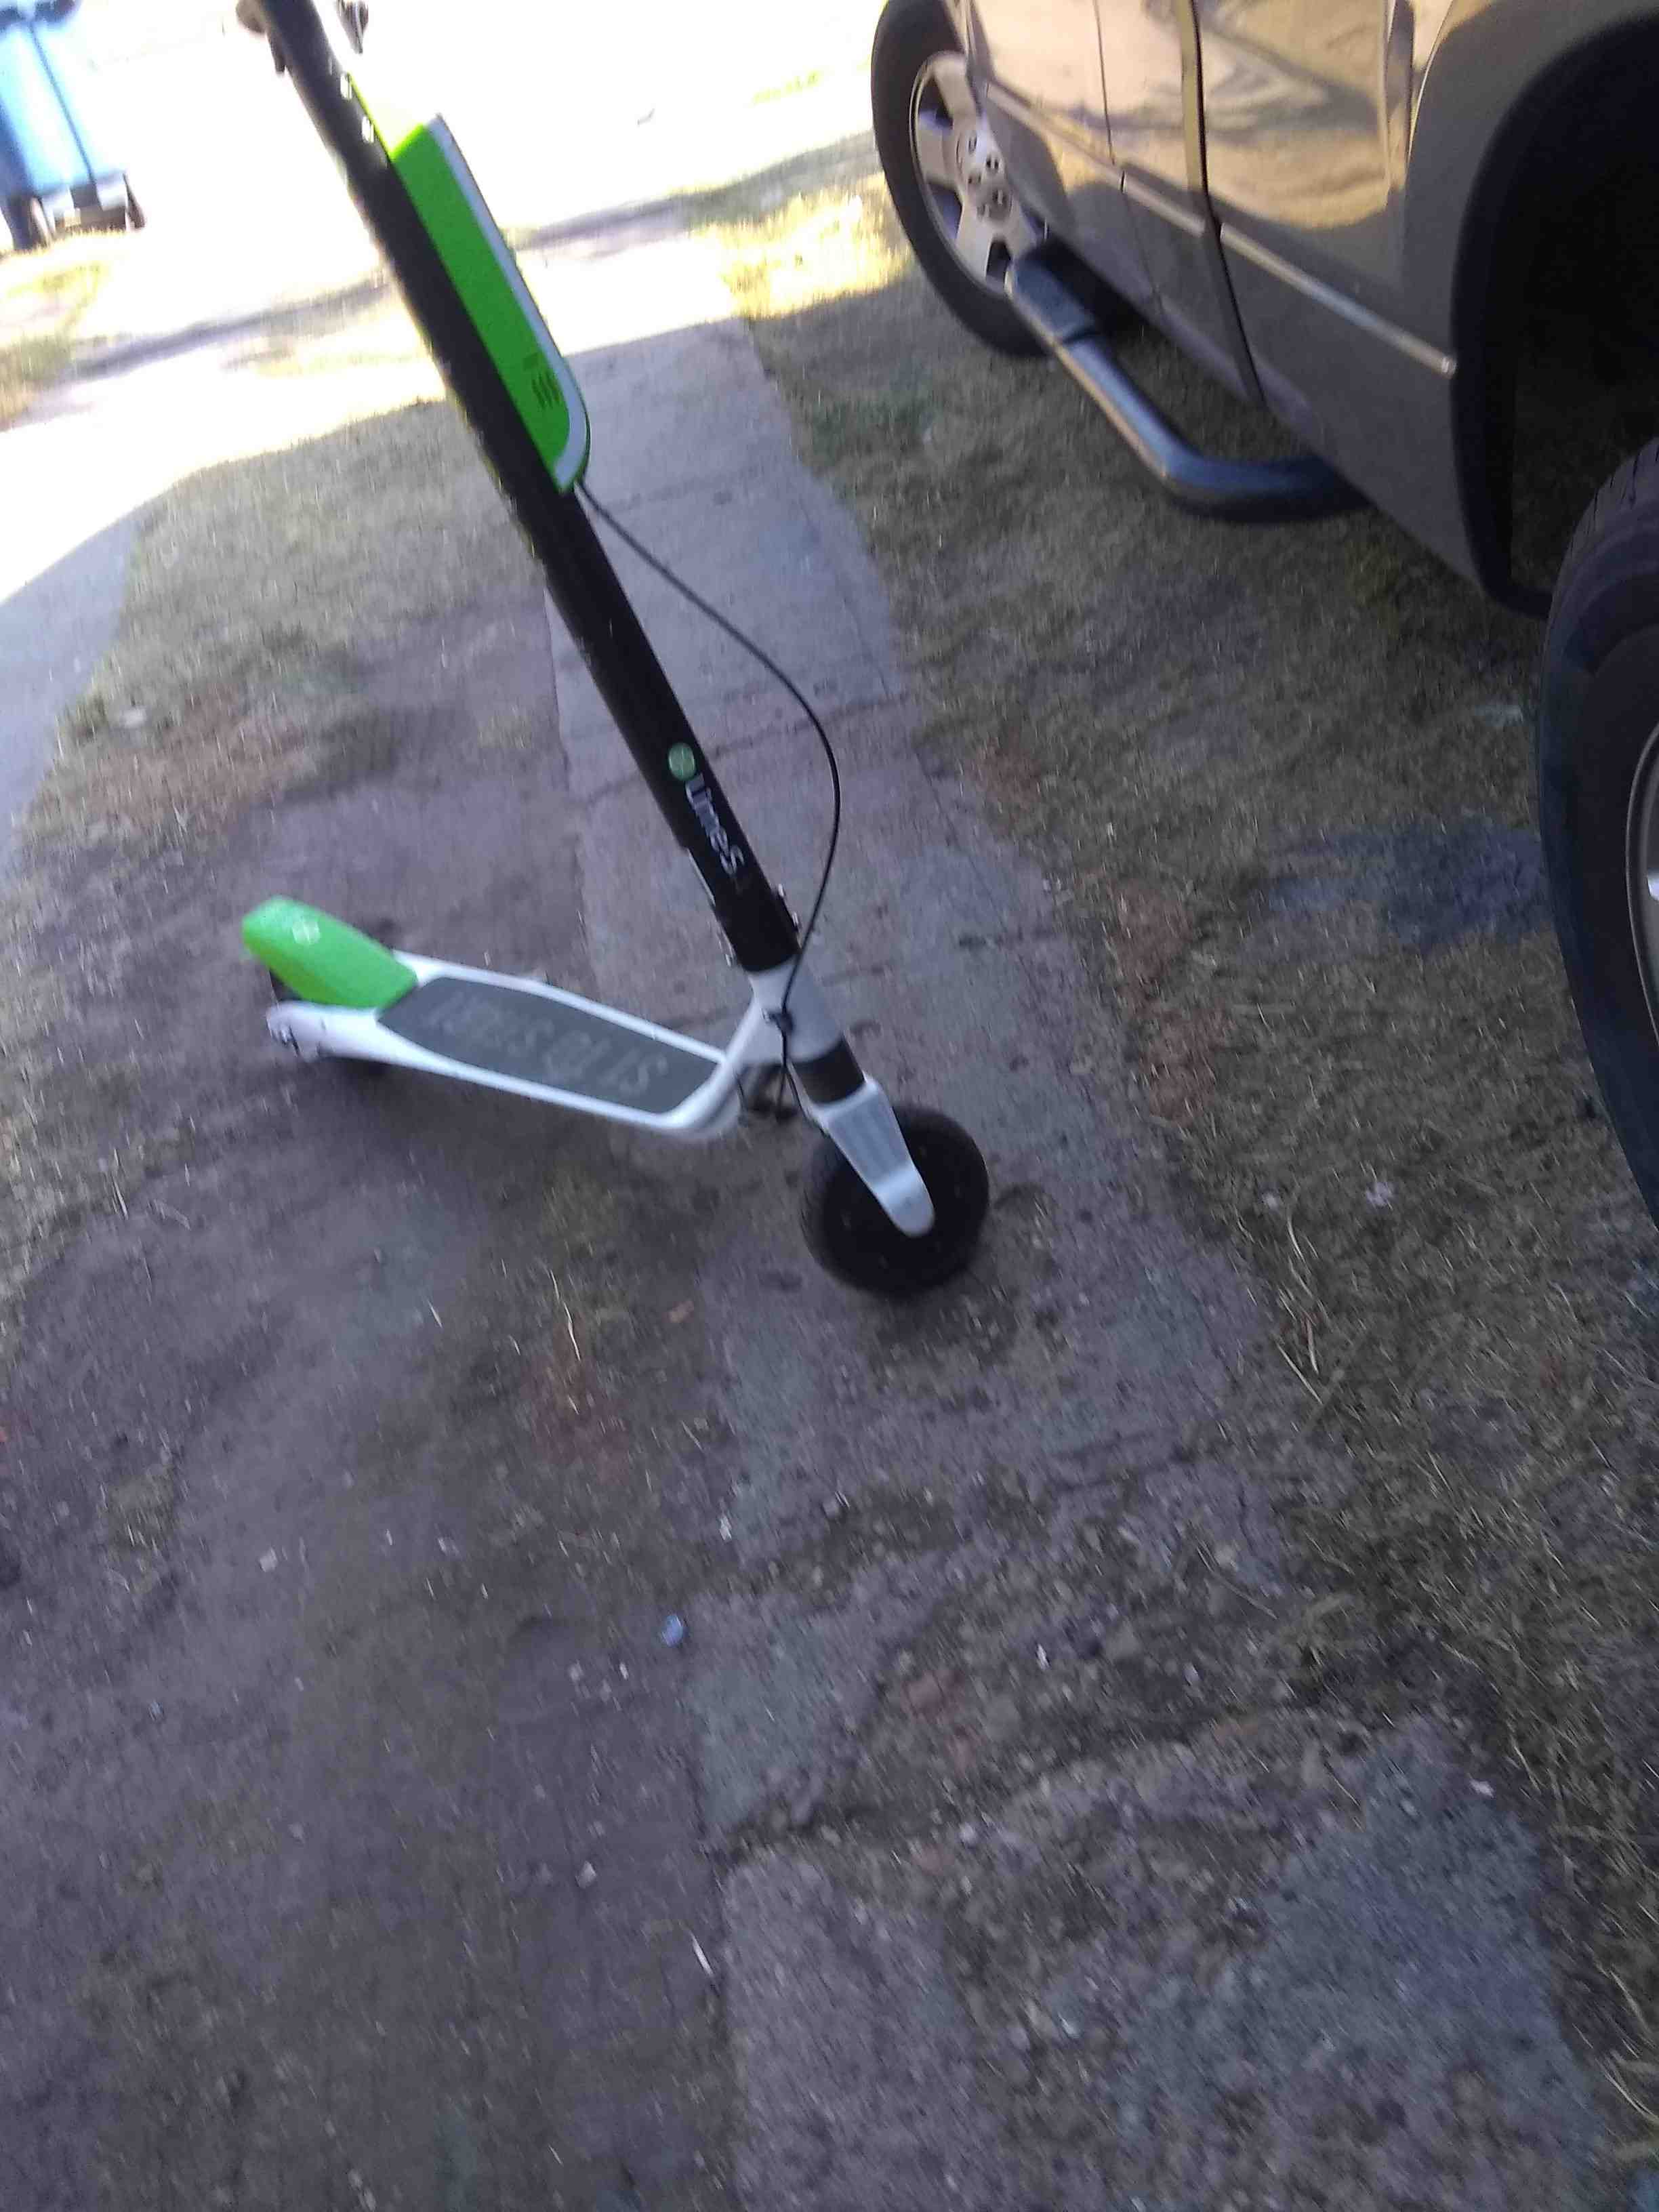scooter: (120, 0, 1075, 1339)
